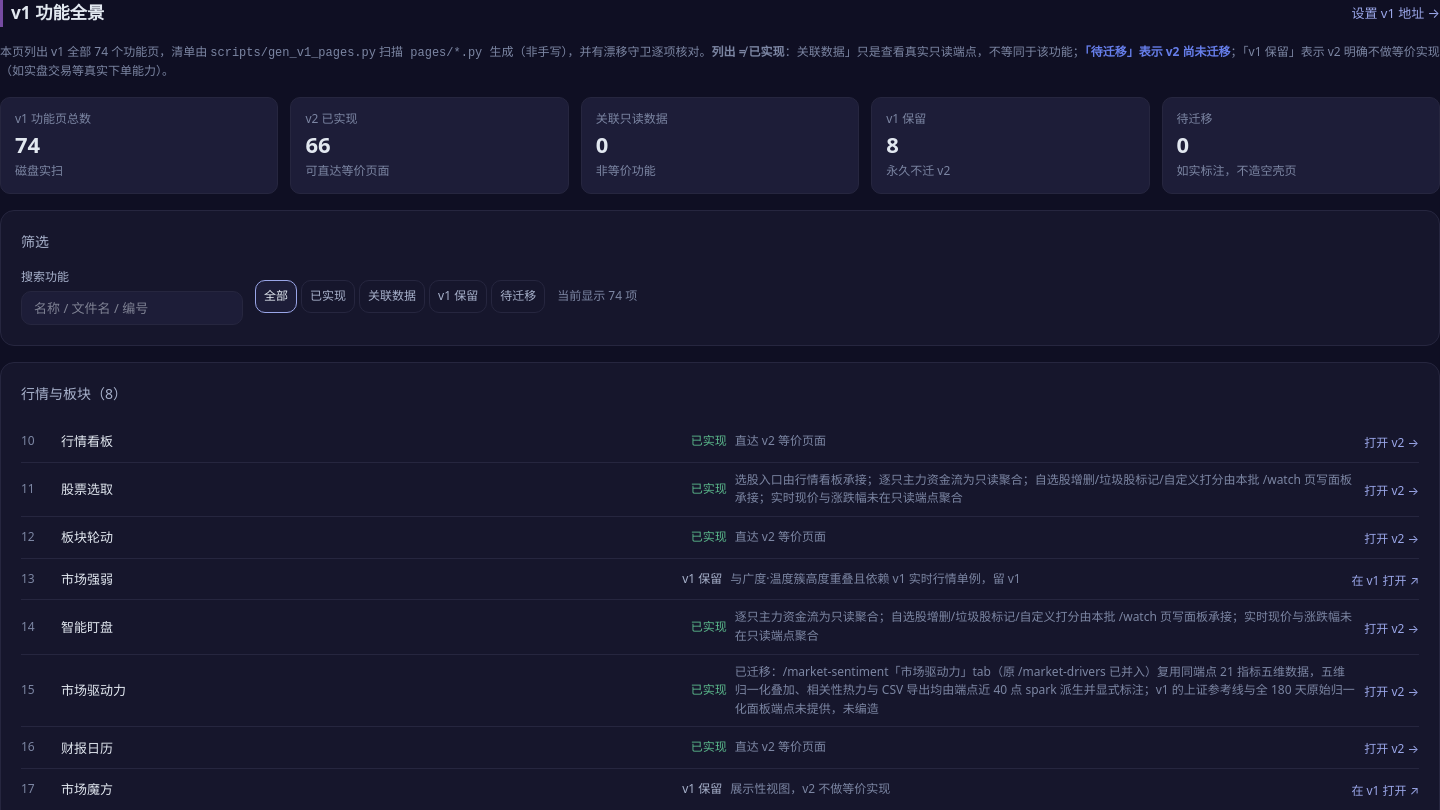
Test case: CatalogView · v1 功能全景 · 诚实三档 + 搜索/筛选 › 状态筛选联动：native 命中、v1-only 下消失（用真实生成数据驱动）
In the search field labelled "搜索功能": (132, 308) [21,291,243,325], type "行情看板"
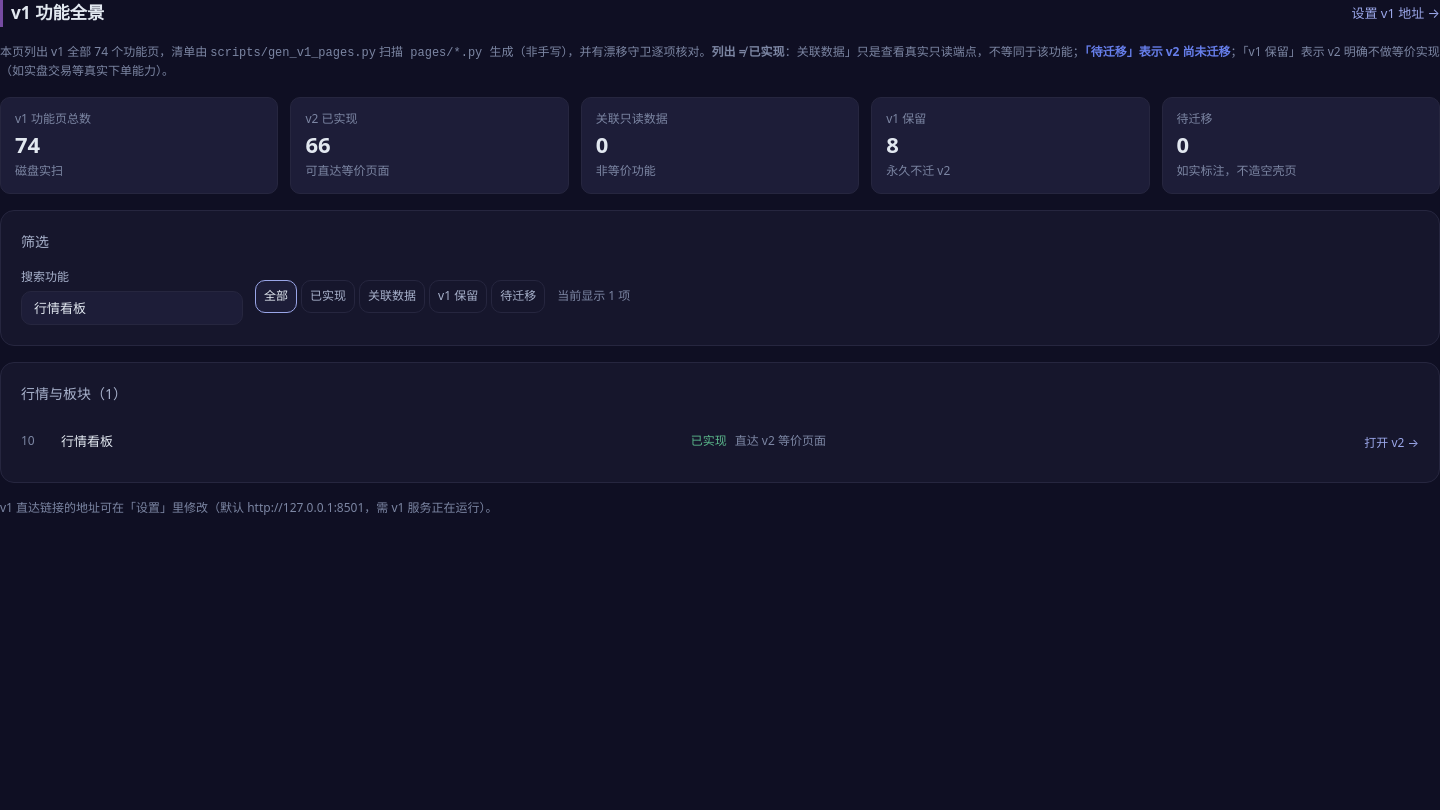
Click the button "已实现": (328, 297) [301,280,355,313]
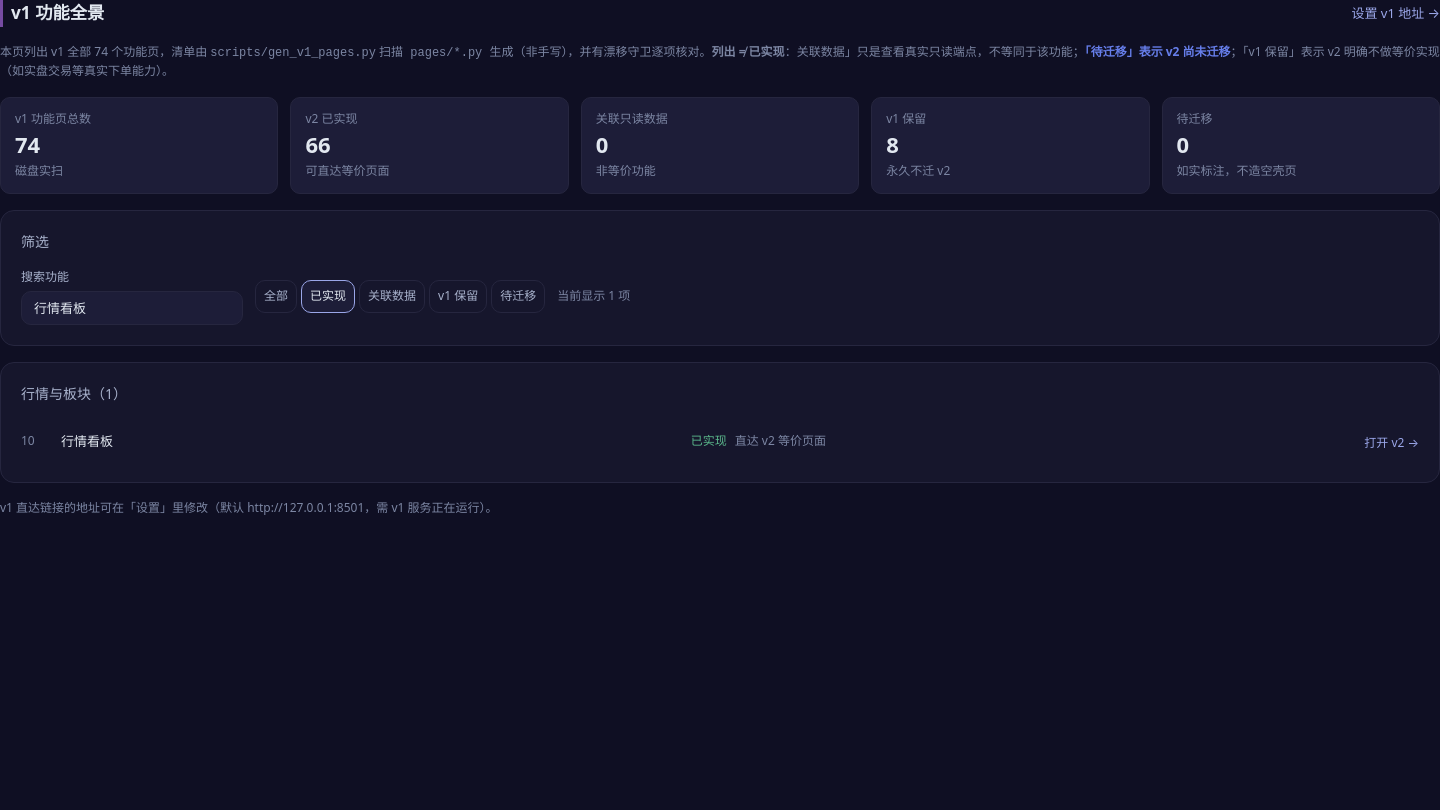
Check: the text "行情看板" is shown, box [61,432,113,450]
// 切到「待迁移」：native 页不应再出现 → 空态
Click the button "待迁移": (518, 297) [491,280,545,313]
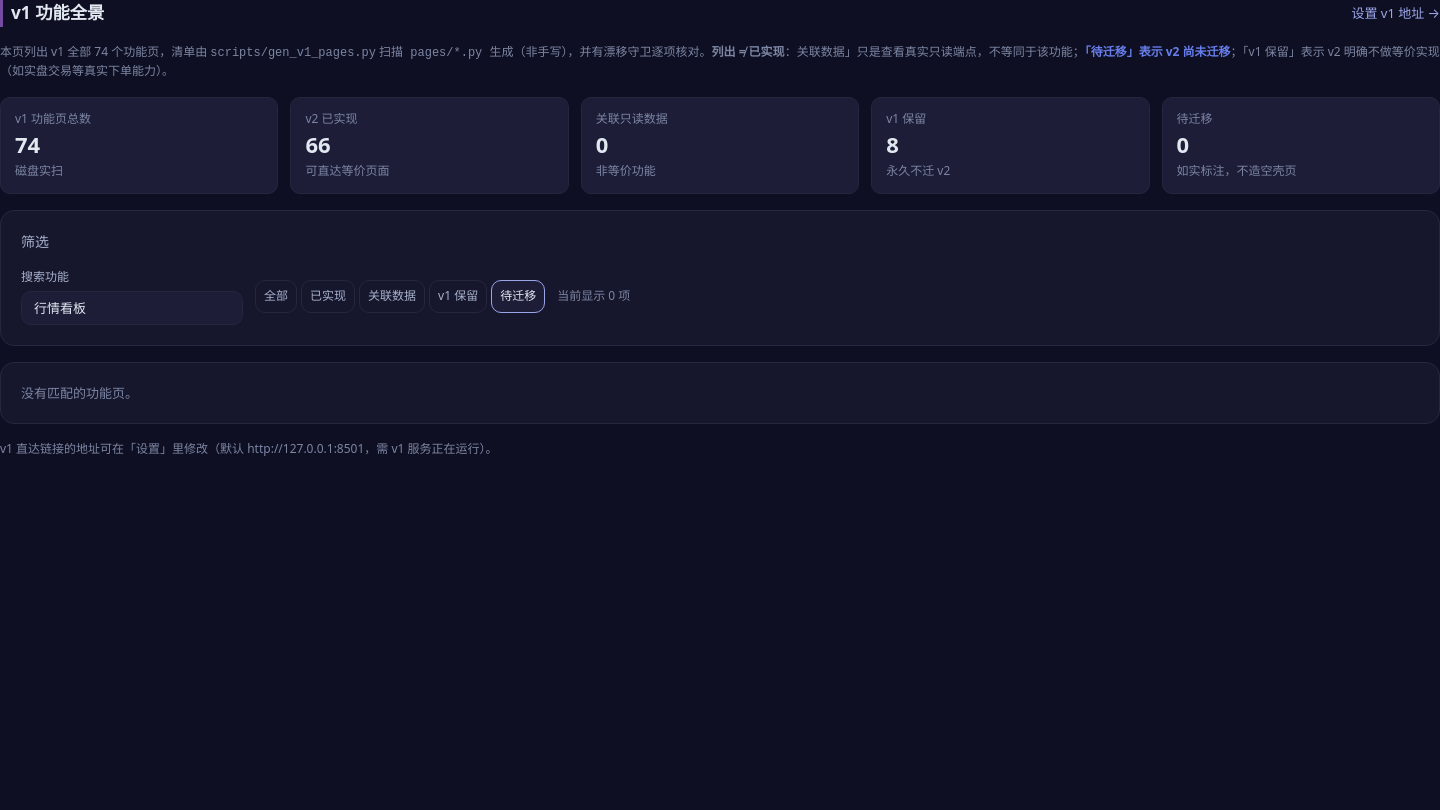
Check: the text "没有匹配的功能页。" is shown, box [21,384,138,402]
